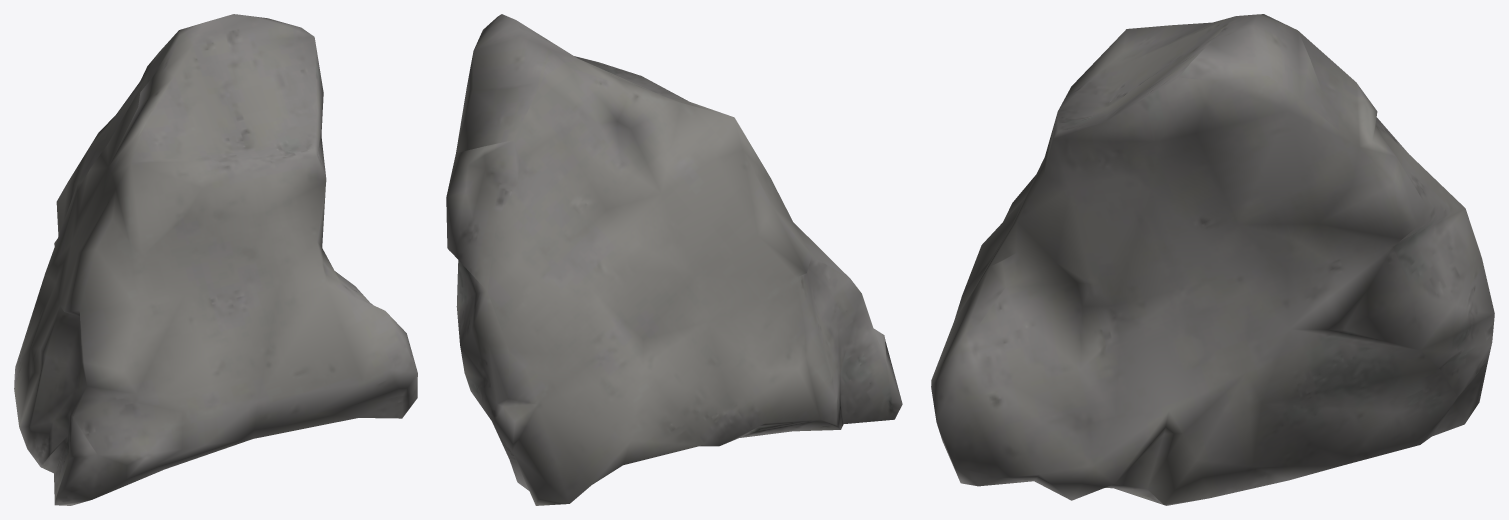
File: moon_rock_05.glb
3 views of the same model, side by side, from view 1: azimuth 30°, elevation 25°; view 2: azimuth 150°, elevation 25°; view 3: azimuth 270°, elevation 25° (orthographic). The views are drawn at different scales.
Visible parts, largest first — view 1: moon_rock_05_LOD0; view 2: moon_rock_05_LOD0; view 3: moon_rock_05_LOD0.
Part boxes in pixels (x1=…): moon_rock_05_LOD0: x1=14, y1=14, x2=417, y2=505; moon_rock_05_LOD0: x1=446, y1=14, x2=902, y2=505; moon_rock_05_LOD0: x1=931, y1=14, x2=1494, y2=505.
Size of the model in its own units: 0.0714 by 0.0734 by 0.0808.
1 material, 1 textured.
